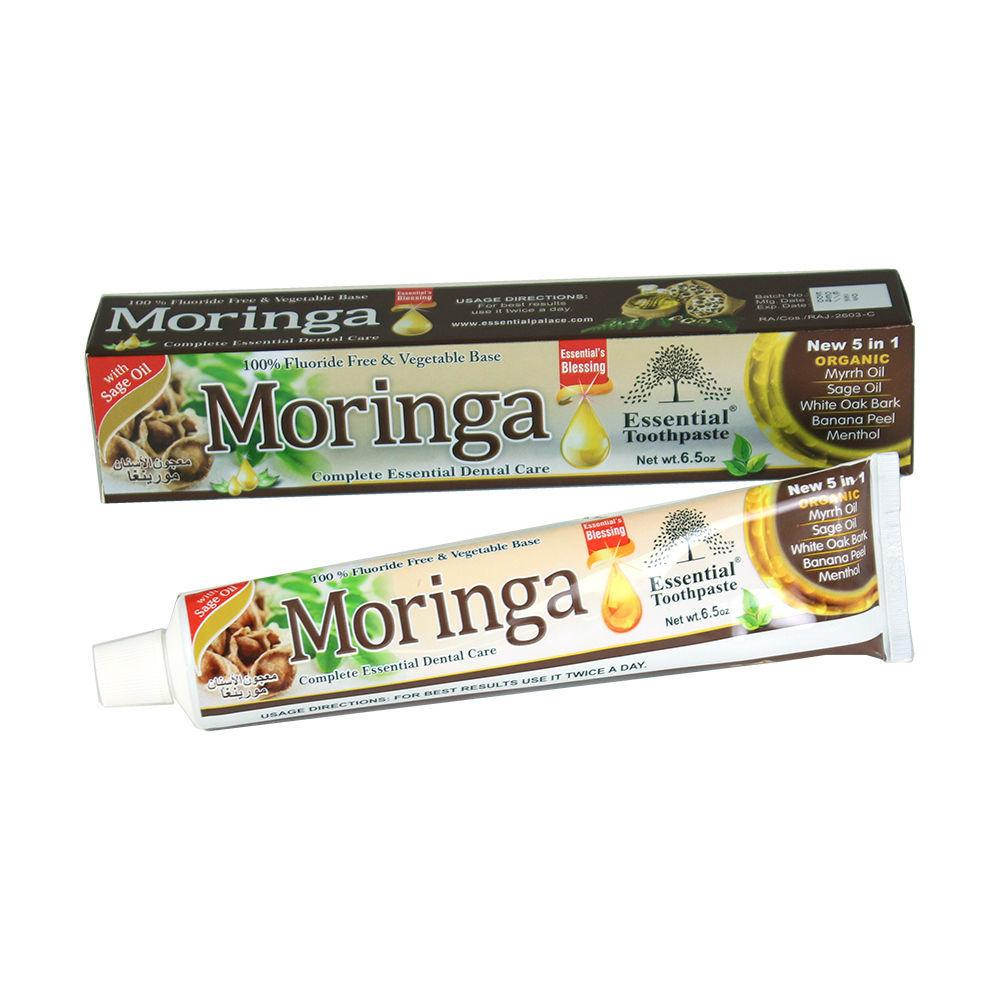toothpaste: (47, 489, 939, 755)
